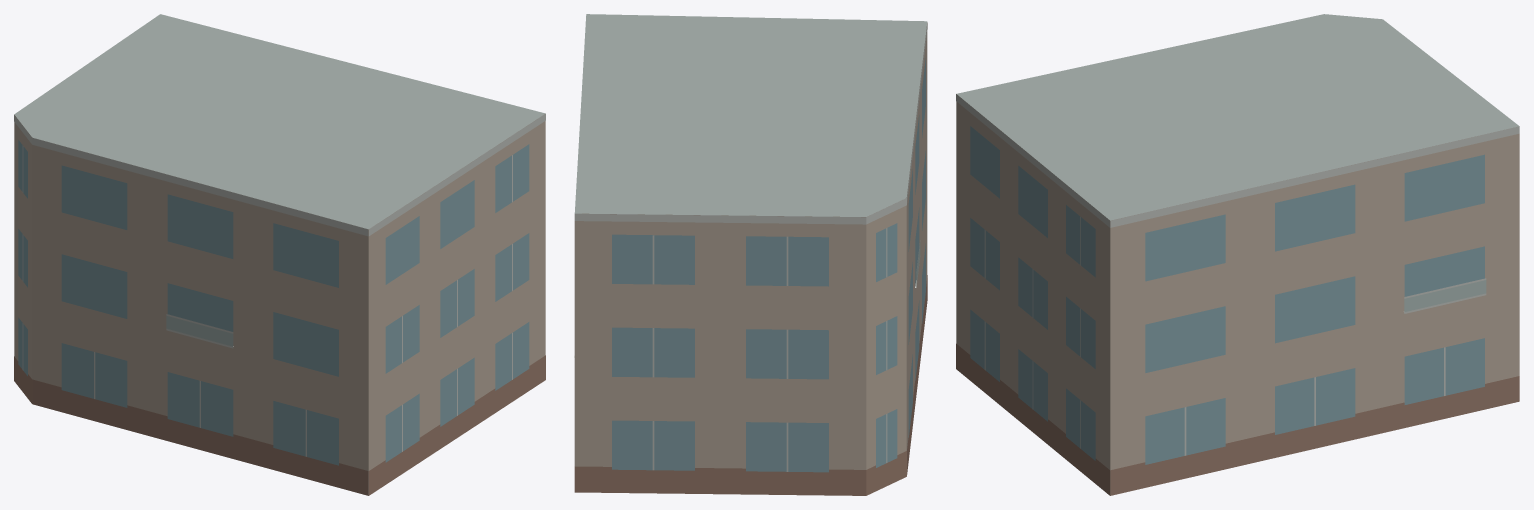
Rendered from survey-upis-32685116.glb.
3 renders of one model, left to right at view 1: azimuth 30°, elevation 25°; view 2: azimuth 150°, elevation 25°; view 3: azimuth 270°, elevation 25°, orthographic. The views are drawn at different scales.
Visible parts, largest first — view 1: survey-upis-32685116.tmp; view 2: survey-upis-32685116.tmp; view 3: survey-upis-32685116.tmp.
Boxes of the visible parts, x1,y1,x2,y2 form: survey-upis-32685116.tmp: (14, 14, 545, 495); survey-upis-32685116.tmp: (574, 14, 927, 495); survey-upis-32685116.tmp: (956, 14, 1519, 495).
Size of the model in its own units: 14.74 by 9.15 by 16.99.
